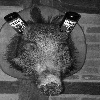beer: (3, 12, 26, 35)
